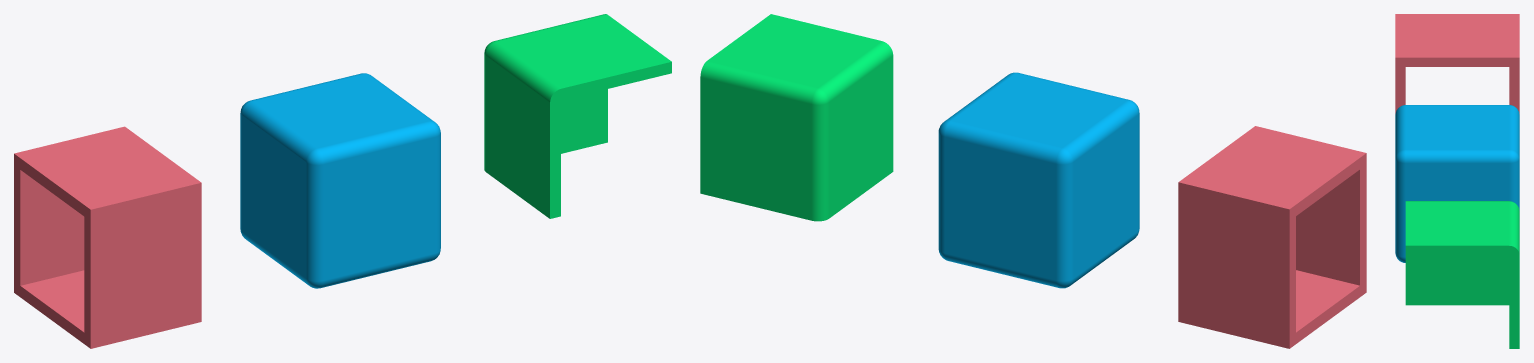
Rendered from offset.glb.
The picture shows the model from 3 angles, left to right: view 1: azimuth 30°, elevation 25°; view 2: azimuth 150°, elevation 25°; view 3: azimuth 270°, elevation 25°; orthographic projection. The views are drawn at different scales.
Parts seen in each view (by area): view 1: COMPOUND; view 2: COMPOUND; view 3: COMPOUND.
Part boxes in pixels (<box>): COMPOUND: <box>14,14,671,348</box>; COMPOUND: <box>700,14,1366,348</box>; COMPOUND: <box>1395,14,1519,348</box>.
Bounding box in the file's own units: 0.0053 × 0.0012 × 0.0012.
